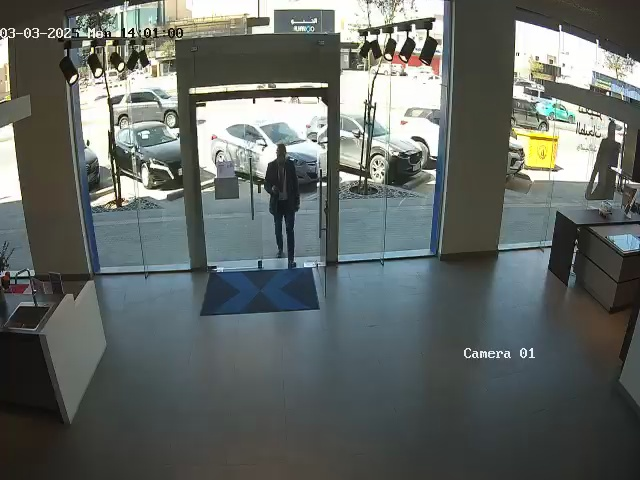employee: (264, 142, 301, 269)
